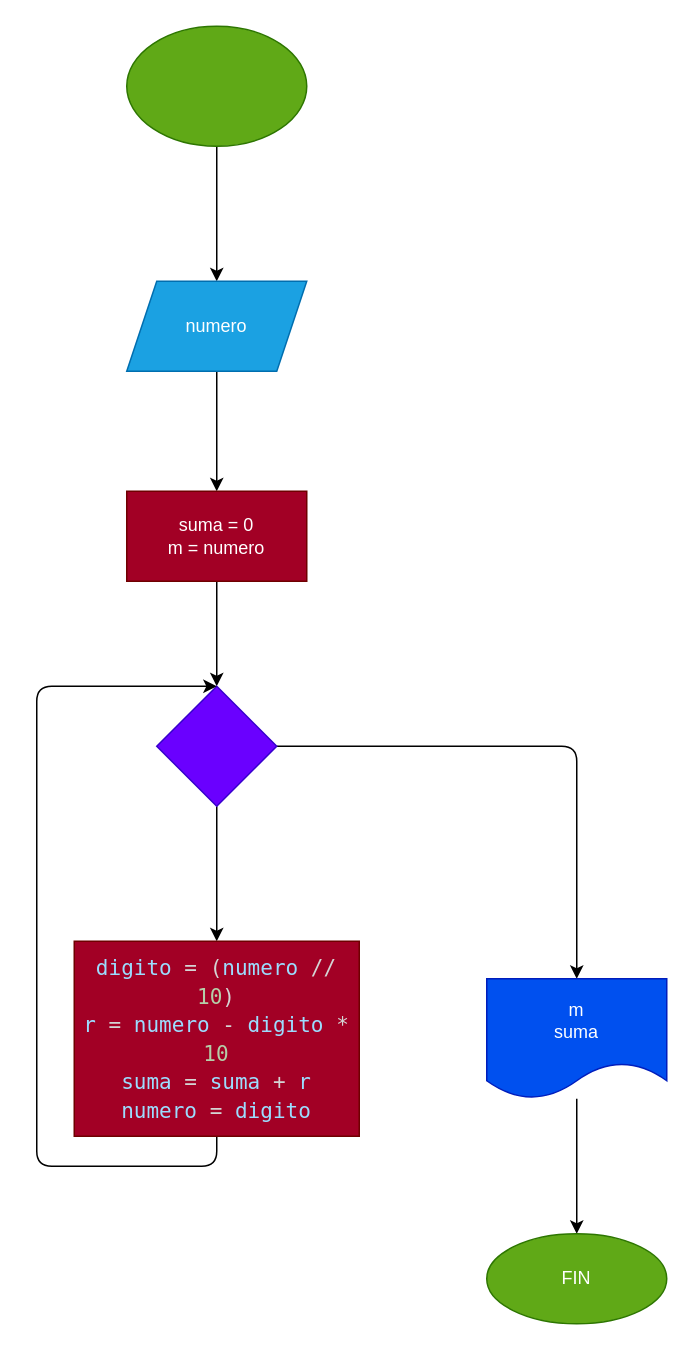
Image size: 693x1350. Some labels were removed from this diagram. Here are the shapes that lost their labels. From the top down, the box of each, then its label:
(125, 25, 307, 146): INICIO
(155, 685, 277, 806): numero != 0
